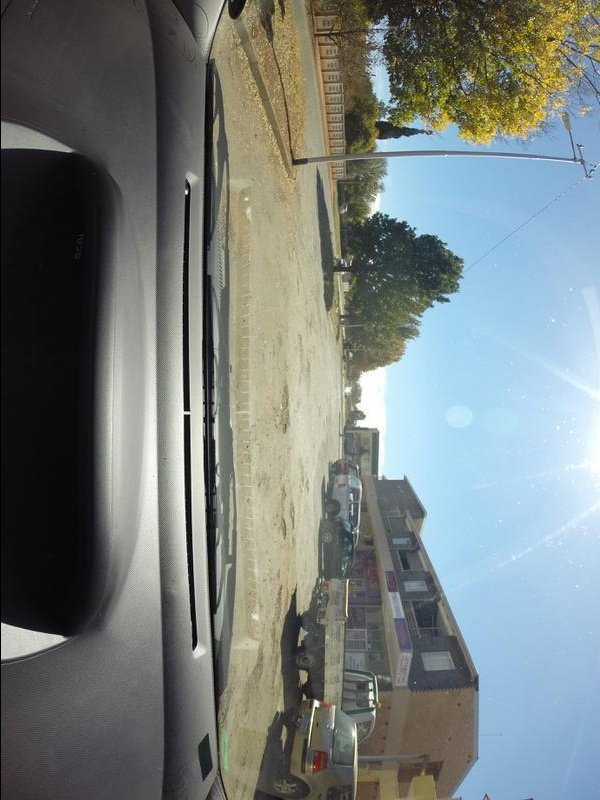pothole: (241, 645, 270, 712), (278, 382, 294, 450), (271, 586, 288, 621), (292, 334, 305, 375), (294, 466, 308, 499), (287, 502, 298, 526), (280, 520, 285, 548)
